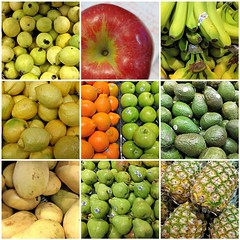Pineapple: (193, 160, 237, 214)
